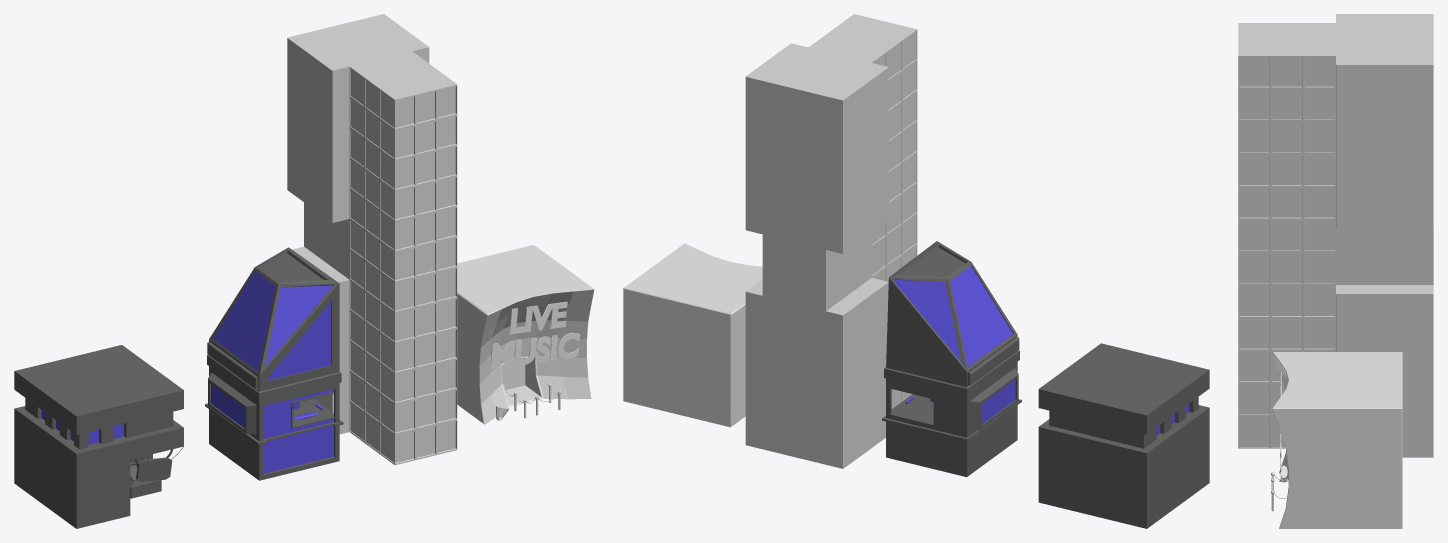
File: Budlings_Ala_Arttu.fbx
The picture shows the model from 3 angles, left to right: view 1: azimuth 30°, elevation 25°; view 2: azimuth 150°, elevation 25°; view 3: azimuth 270°, elevation 25°; orthographic projection. The views are drawn at different scales.
Visible parts, largest first — view 1: WonkySkyScraper, WonkScraper, Newnew, NightCLub; view 2: WonkySkyScraper, Newnew, WonkScraper, NightCLub; view 3: WonkySkyScraper, NightCLub.
Boxes of the visible parts, left/top/right/bottom form: WonkySkyScraper: left=287, top=14, right=457, bottom=465; WonkScraper: left=205, top=247, right=343, bottom=480; Newnew: left=14, top=345, right=183, bottom=528; NightCLub: left=457, top=245, right=594, bottom=424; WonkySkyScraper: left=745, top=14, right=917, bottom=468; Newnew: left=1038, top=343, right=1209, bottom=528; WonkScraper: left=882, top=241, right=1021, bottom=477; NightCLub: left=623, top=243, right=762, bottom=427; WonkySkyScraper: left=1238, top=14, right=1433, bottom=457; NightCLub: left=1271, top=352, right=1402, bottom=528.
Bounding box in the file's own units: 967 × 650 × 293.
